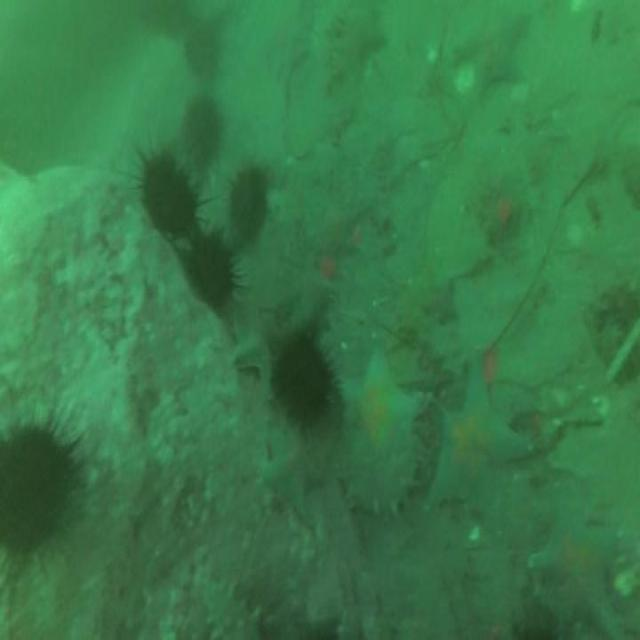echinus: (0, 428, 68, 559), (272, 337, 330, 425), (142, 156, 198, 238), (185, 232, 235, 307), (228, 168, 270, 244), (183, 100, 221, 161)
holothurian: (338, 442, 419, 509), (202, 583, 258, 640)
starfish: (429, 354, 523, 526), (524, 498, 617, 640), (339, 354, 414, 455), (456, 3, 528, 93), (266, 433, 324, 517), (235, 322, 271, 397)
